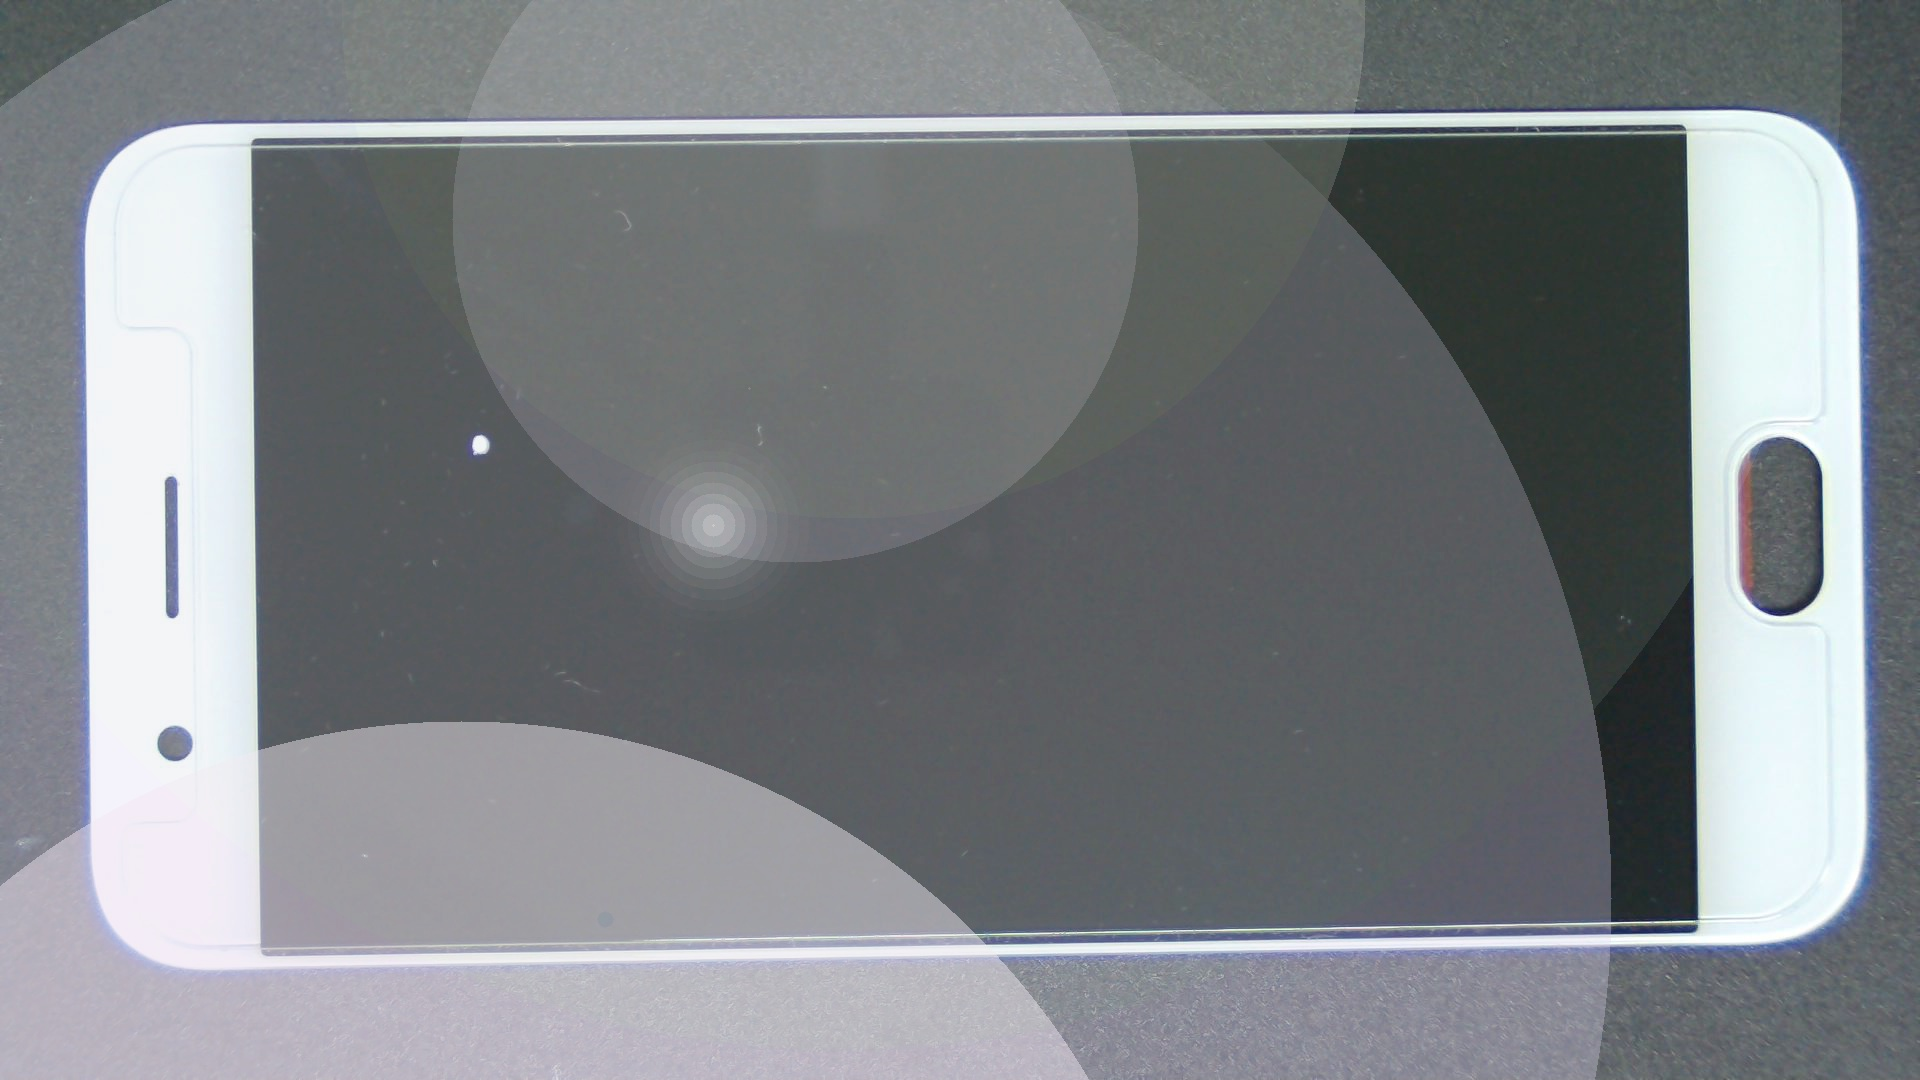oil: (241, 216, 721, 650)
